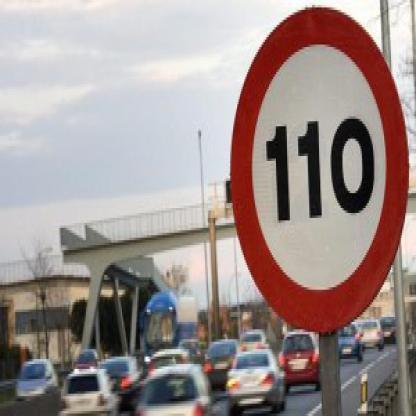Speed Limit 110: (234, 9, 406, 329)
